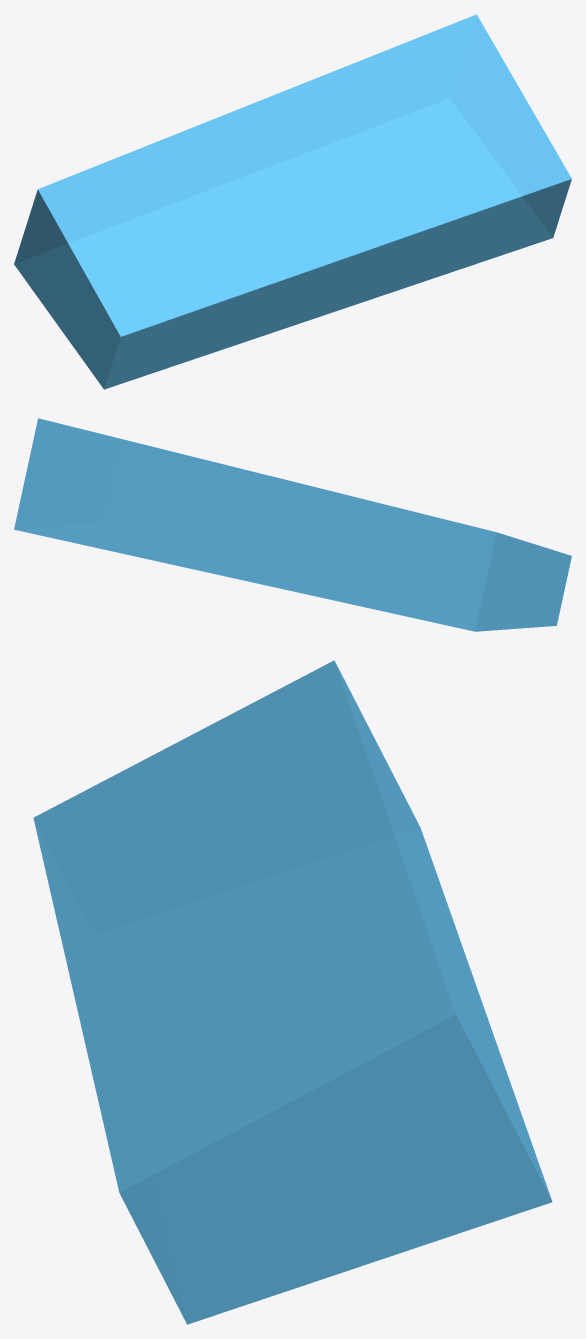
Rendered from Event_420107950_HErechit_69.fbx.
The picture shows the model from 3 angles, top to bottom: view 1: azimuth 30°, elevation 25°; view 2: azimuth 150°, elevation 25°; view 3: azimuth 270°, elevation 25°; orthographic projection. The views are drawn at different scales.
Visible parts, largest first — view 1: Model; view 2: Model; view 3: Model.
Boxes of the visible parts, x1,y1,x2,y2 form: Model: (14, 14, 571, 389); Model: (14, 418, 571, 631); Model: (33, 660, 552, 1324).
Size of the model in its own units: 1.34 by 0.5028 by 0.6981.
